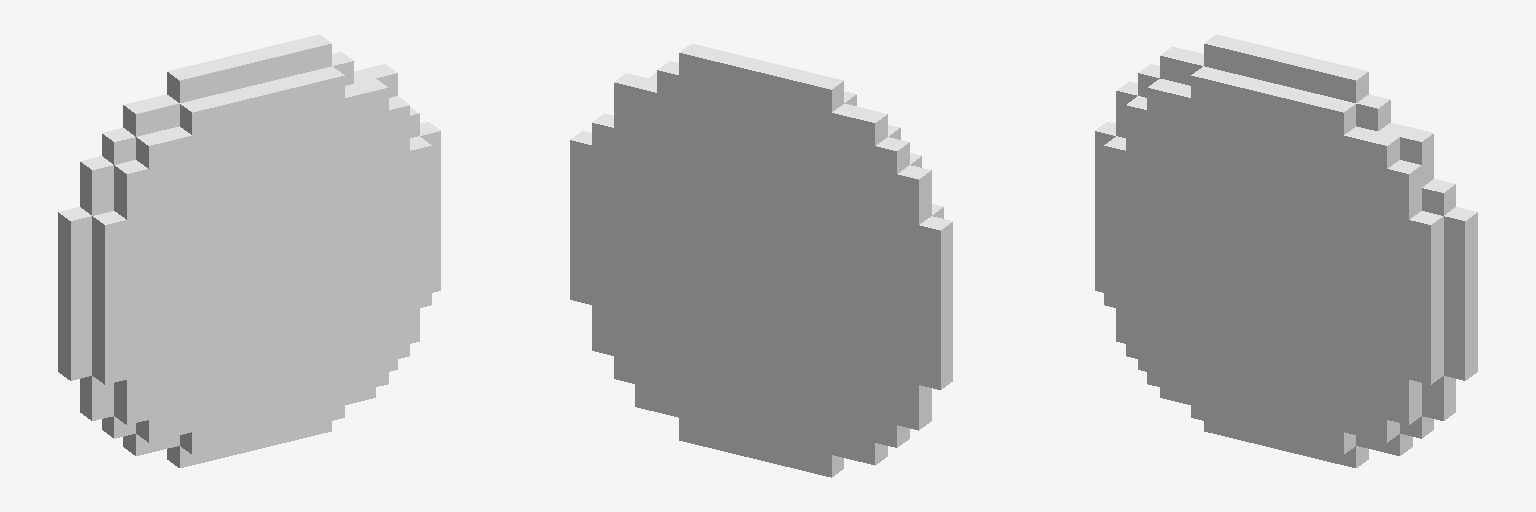
Rendered from icon-geodude-1.obj.
The picture shows the model from 3 angles: view 1: azimuth 30°, elevation 25°; view 2: azimuth 150°, elevation 25°; view 3: azimuth 330°, elevation 25°; orthographic projection.
Visible parts, largest first — view 1: object 1; view 2: object 1; view 3: object 1.
Part boxes in pixels (bbox=[...]): object 1: bbox=[58, 34, 440, 467]; object 1: bbox=[570, 44, 952, 477]; object 1: bbox=[1095, 34, 1477, 467].
Bounding box in the file's own units: 1.7 × 1.7 × 0.2.